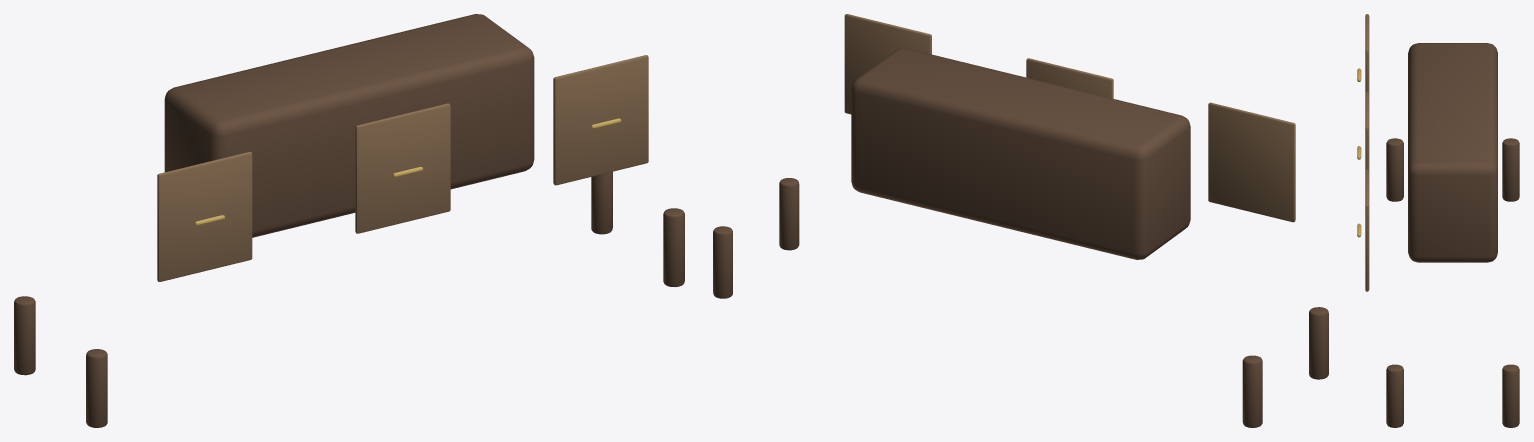
File: sideboard.glb
The picture shows the model from 3 angles, left to right: view 1: azimuth 30°, elevation 25°; view 2: azimuth 150°, elevation 25°; view 3: azimuth 270°, elevation 25°; orthographic projection. The views are drawn at different scales.
Parts seen in each view (by area): view 1: body, door1, door0, door2, leg.001, leg, leg.002, leg.003; view 2: body, door0, door2, door1, leg.001, leg.002, leg, leg.003; view 3: body, leg, leg.001, leg.003, leg.002, door2, door1, door0.
Boxes of the visible parts, left/top/right/bottom form: body: left=164, top=14, right=534, bottom=237; door1: left=355, top=103, right=450, bottom=233; door0: left=157, top=151, right=252, bottom=281; door2: left=553, top=55, right=648, bottom=185; leg.001: left=14, top=296, right=35, bottom=375; leg: left=86, top=349, right=107, bottom=427; leg.002: left=663, top=208, right=684, bottom=287; leg.003: left=591, top=171, right=612, bottom=234; body: left=851, top=48, right=1190, bottom=259; door0: left=1208, top=102, right=1295, bottom=222; door2: left=844, top=14, right=931, bottom=114; door1: left=1026, top=58, right=1113, bottom=98; leg.001: left=1242, top=355, right=1262, bottom=427; leg.002: left=779, top=178, right=799, bottom=250; leg: left=1309, top=307, right=1328, bottom=379; leg.003: left=713, top=226, right=732, bottom=298; body: left=1408, top=43, right=1497, bottom=262; leg: left=1386, top=138, right=1403, bottom=201; leg.001: left=1502, top=138, right=1519, bottom=201; leg.003: left=1502, top=364, right=1519, bottom=427; leg.002: left=1386, top=364, right=1403, bottom=427; door2: left=1365, top=169, right=1369, bottom=291; door1: left=1365, top=91, right=1369, bottom=170; door0: left=1365, top=14, right=1369, bottom=92.
Size of the model in its own units: 1.38 by 0.5775 by 0.407.
